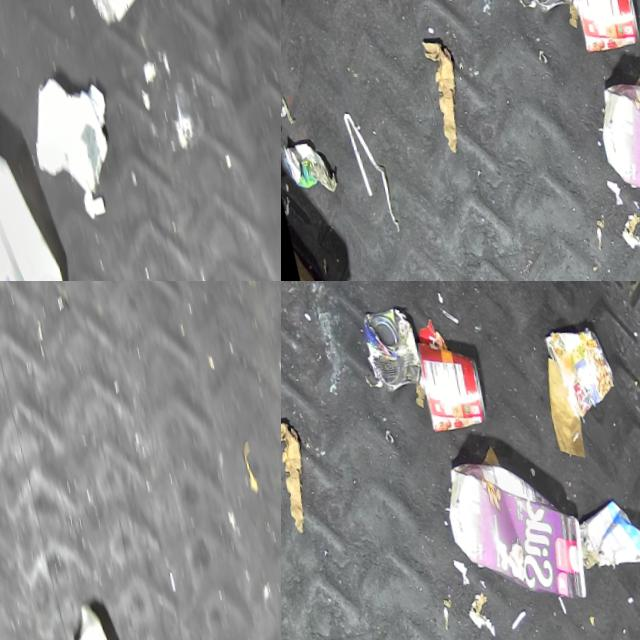can: (410, 331, 489, 434), (540, 317, 620, 416), (354, 298, 425, 394), (562, 0, 640, 54)
milk_jug: (0, 132, 74, 281)
non_white_jug: (431, 440, 589, 607), (584, 60, 640, 227)
plastic_bottle: (73, 0, 173, 29)
